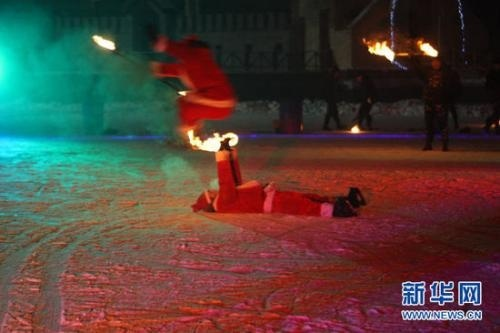fire: (184, 126, 238, 153), (363, 35, 397, 61), (417, 38, 439, 57)
